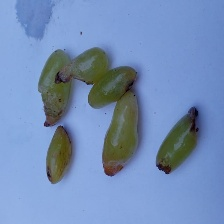grapes: (57, 41, 201, 207)
